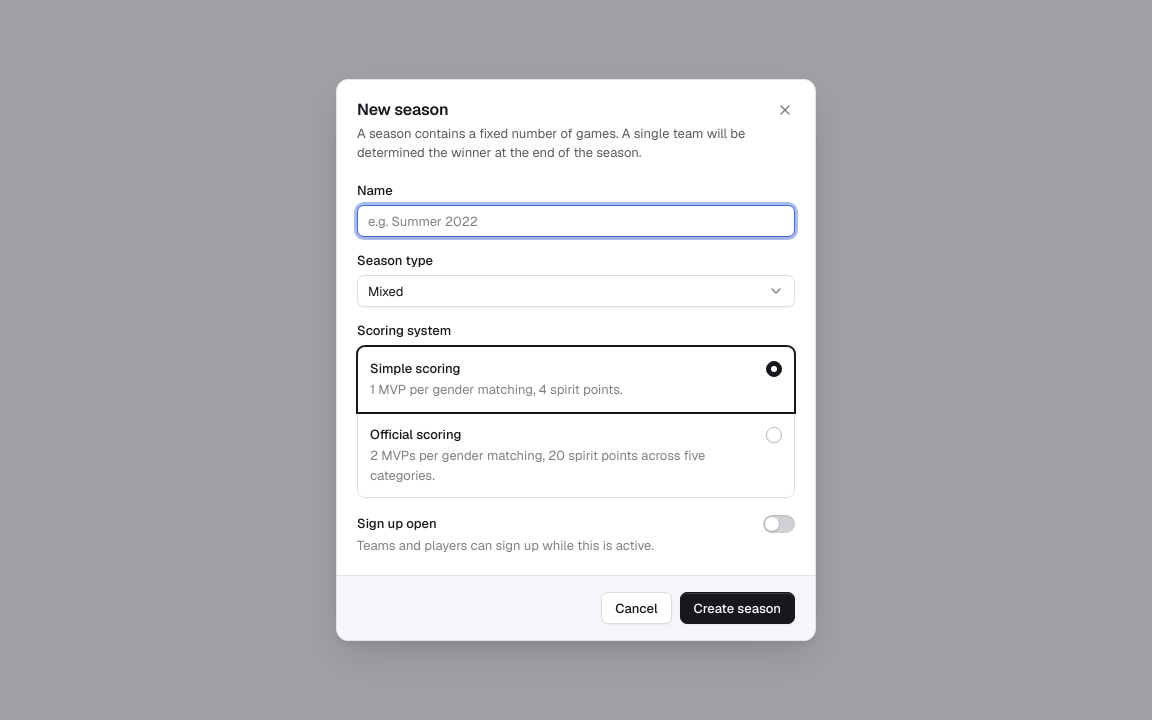
Test: SeasonCreateDialog › requires a name before creating
This screenshot has width=1152, height=720.
Click the button "Create season" at [737, 608], box [680,592,795,624]
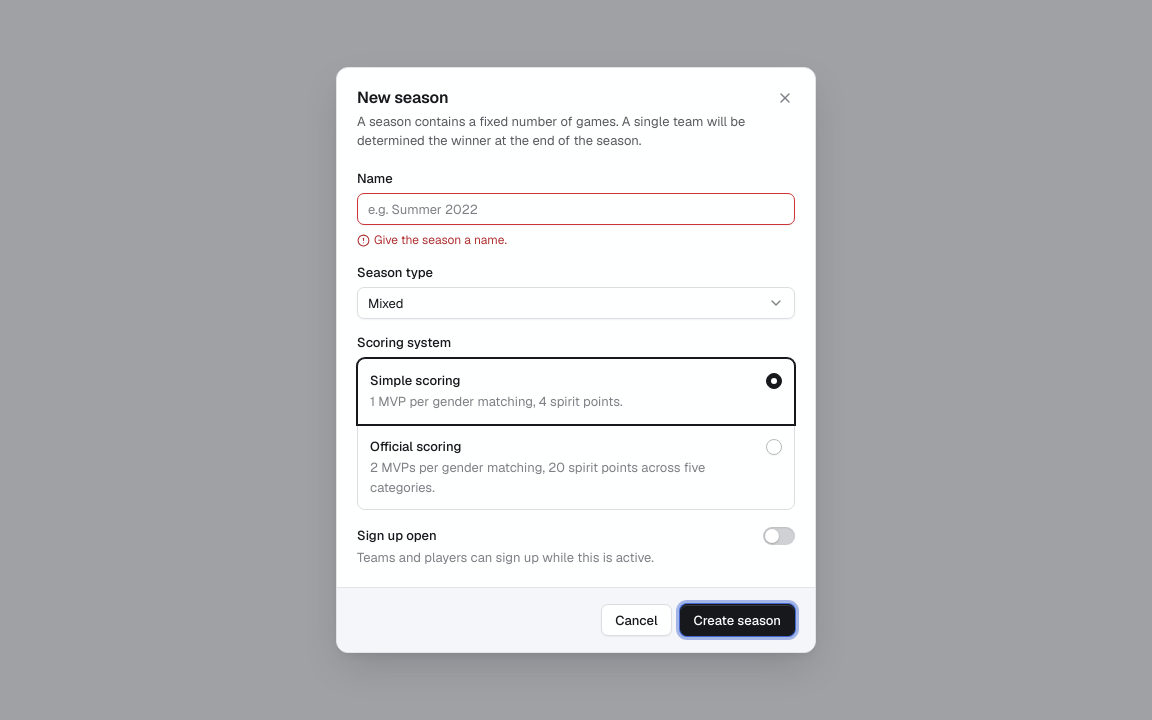
Result: the text "Give the season a name." is shown at [357,232,507,248]
Type "W" into the field labelled "Name" at [576, 209], box [368,194,784,224]
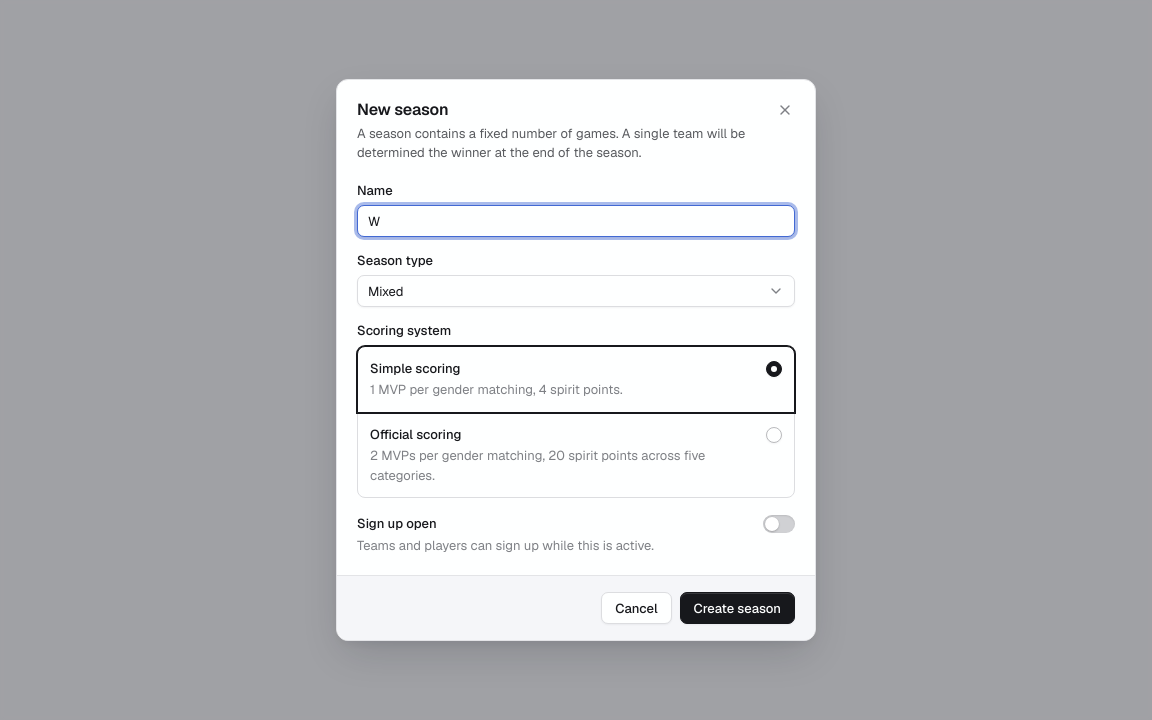
Result: the text "Give the season a name." is gone
